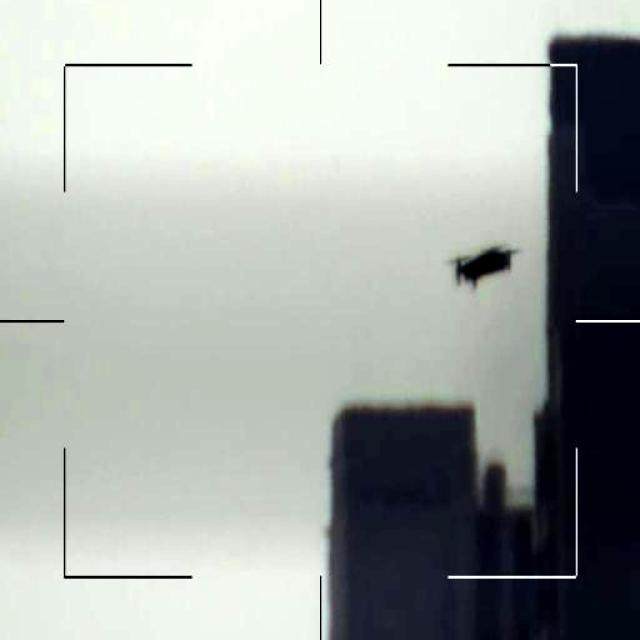bird: (452, 242, 519, 286)
